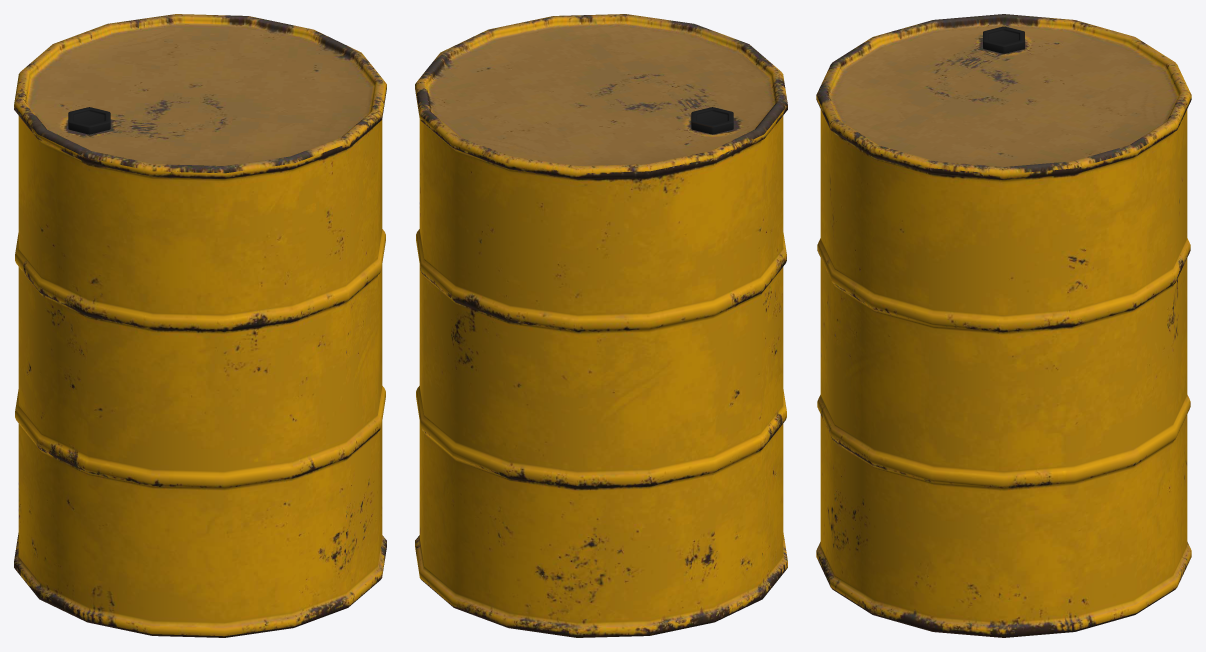
The model's file is barrel.gltf.
3 renders of one model, left to right at view 1: azimuth 30°, elevation 25°; view 2: azimuth 150°, elevation 25°; view 3: azimuth 270°, elevation 25°, orthographic.
Visible parts, largest first — view 1: Barrel_01; view 2: Barrel_01; view 3: Barrel_01.
Boxes of the visible parts, x1,y1,x2,y2 form: Barrel_01: (14, 14, 386, 637); Barrel_01: (415, 14, 787, 637); Barrel_01: (816, 14, 1191, 637).
Size of the model in its own units: 3.07 by 4.25 by 3.07.
1 material, 1 textured.
